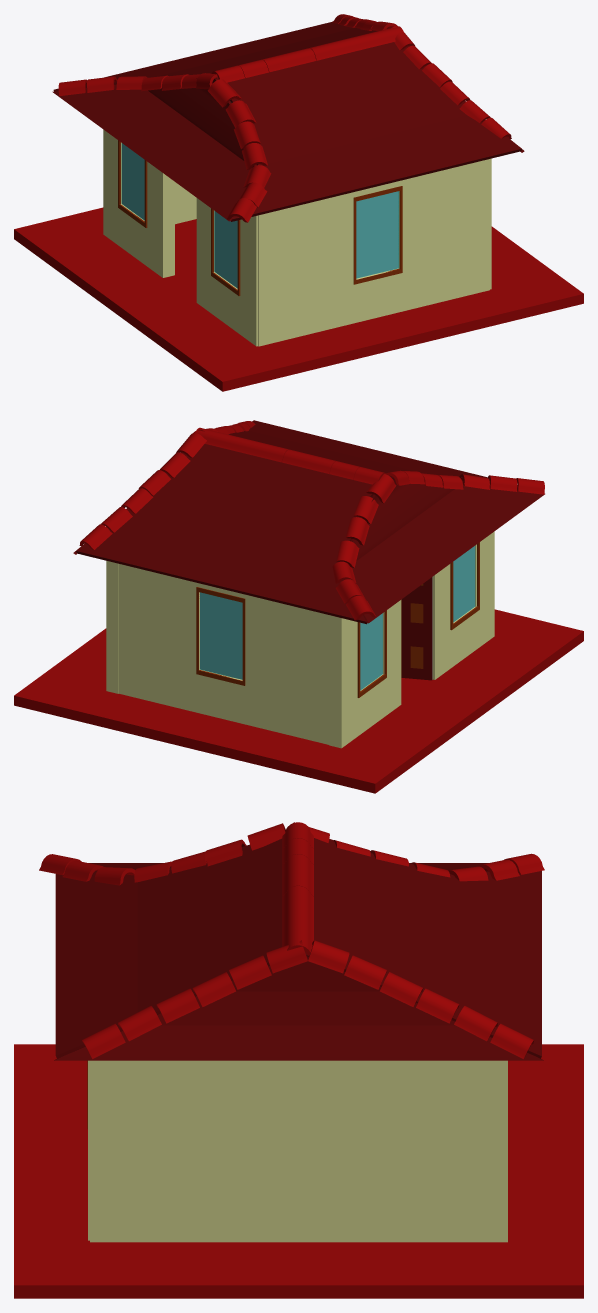
File: nearthegatebuild.fbx
The picture shows the model from 3 angles, top to bottom: view 1: azimuth 30°, elevation 25°; view 2: azimuth 150°, elevation 25°; view 3: azimuth 270°, elevation 25°; orthographic projection. The views are drawn at different scales.
Visible parts, largest first — view 1: pCube31, pCube2, pCube20, pCube4, pCube19, pCube1, pCube26, pPipe23, pCube29, pCube28, pCube21, polySurface8 (+3 smaller); view 2: pCube31, pCube1, pCube21, pCube4, pCube19, pCube27, pCube2, pPipe23, pCube30, pCube28, pCube29, pCube6; view 3: pCube6, pCube31, pCube2, pCube1, pCube3, pPipe23, polySurface9, pCube4.
Part boxes in pixels (x1=…): pCube31: x1=14, y1=207, x2=583, y2=391; pCube2: x1=216, y1=42, x2=521, y2=221; pCube20: x1=258, y1=159, x2=489, y2=346; pCube4: x1=52, y1=78, x2=256, y2=221; pCube19: x1=103, y1=129, x2=257, y2=346; pCube1: x1=53, y1=22, x2=377, y2=91; pCube26: x1=353, y1=186, x2=402, y2=284; pPipe23: x1=332, y1=14, x2=511, y2=139; pCube29: x1=211, y1=208, x2=240, y2=295; pCube28: x1=118, y1=140, x2=147, y2=227; pCube21: x1=175, y1=182, x2=196, y2=224; polySurface8: x1=207, y1=79, x2=241, y2=107; pCube31: x1=14, y1=609, x2=583, y2=793; pCube1: x1=76, y1=444, x2=373, y2=624; pCube21: x1=119, y1=564, x2=329, y2=744; pCube4: x1=351, y1=479, x2=544, y2=623; pCube19: x1=329, y1=531, x2=494, y2=748; pCube27: x1=196, y1=587, x2=245, y2=685; pCube2: x1=228, y1=420, x2=517, y2=490; pPipe23: x1=79, y1=421, x2=255, y2=549; pCube30: x1=401, y1=577, x2=432, y2=680; pCube28: x1=357, y1=610, x2=386, y2=697; pCube29: x1=450, y1=542, x2=479, y2=630; pCube6: x1=106, y1=561, x2=118, y2=693; pCube6: x1=90, y1=1060, x2=507, y2=1242; pCube31: x1=14, y1=1044, x2=583, y2=1298; pCube2: x1=55, y1=838, x2=282, y2=1058; pCube1: x1=305, y1=838, x2=541, y2=1058; pCube3: x1=54, y1=956, x2=543, y2=1060; pPipe23: x1=82, y1=940, x2=533, y2=1058; polySurface9: x1=205, y1=839, x2=246, y2=866; pCube4: x1=89, y1=839, x2=488, y2=875.
Bounding box in the file's own units: 42.77 × 24.94 × 42.77.
